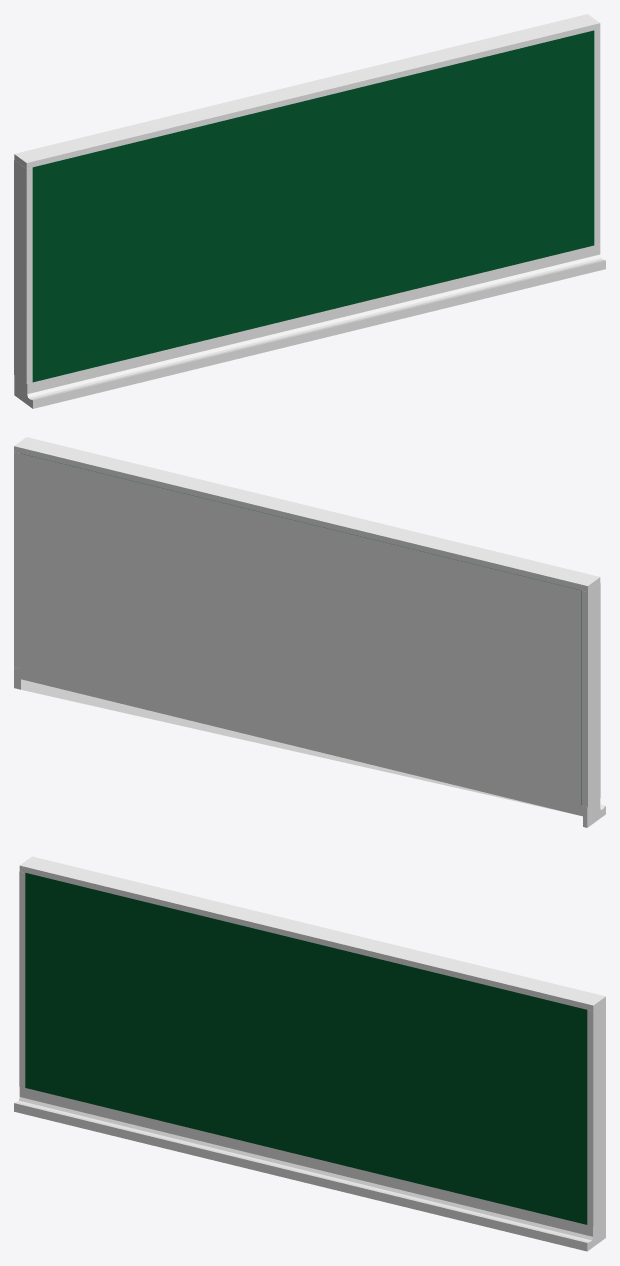
The model's file is brack bord.fbx.
3 views of the same model, one above another, from view 1: azimuth 30°, elevation 25°; view 2: azimuth 150°, elevation 25°; view 3: azimuth 330°, elevation 25° (orthographic).
Parts seen in each view (by area): view 1: blackboard2; view 2: blackboard2; view 3: blackboard2.
Boxes of the visible parts, x1=… form: blackboard2: x1=14, y1=14, x2=605, y2=408; blackboard2: x1=14, y1=437, x2=605, y2=827; blackboard2: x1=14, y1=856, x2=605, y2=1251.
Bounding box in the file's own units: 176 × 70.85 × 9.89.
